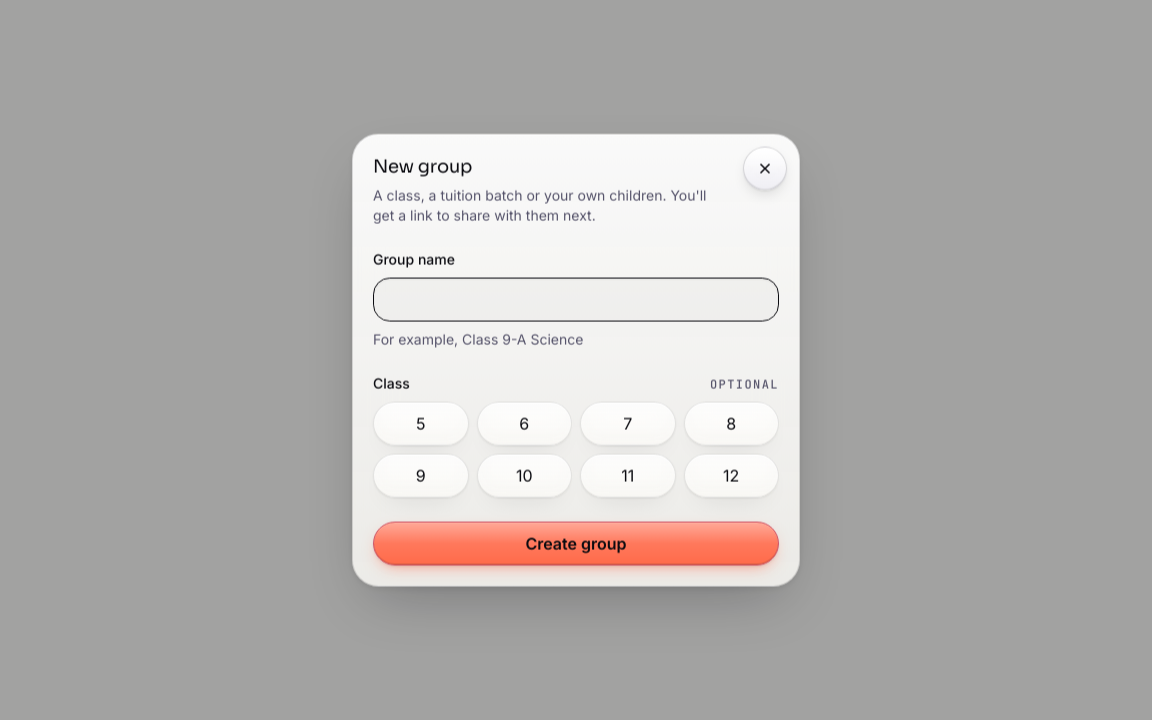
Test case: creating a group › a failed save keeps the window open and says so
Type "Tuition" into the field labelled "Group name".
click(576, 299); type("Tuition")  # box [373,277,779,321]
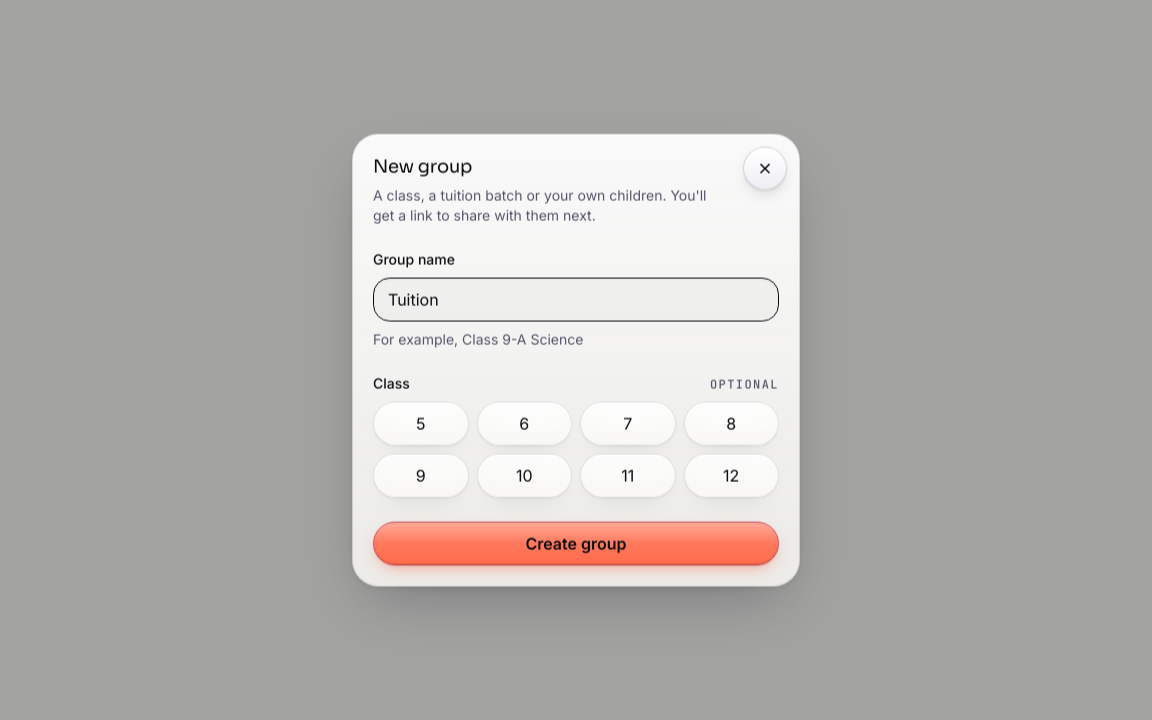
Click the button "Create group".
click(576, 543)  # box [373,521,779,565]
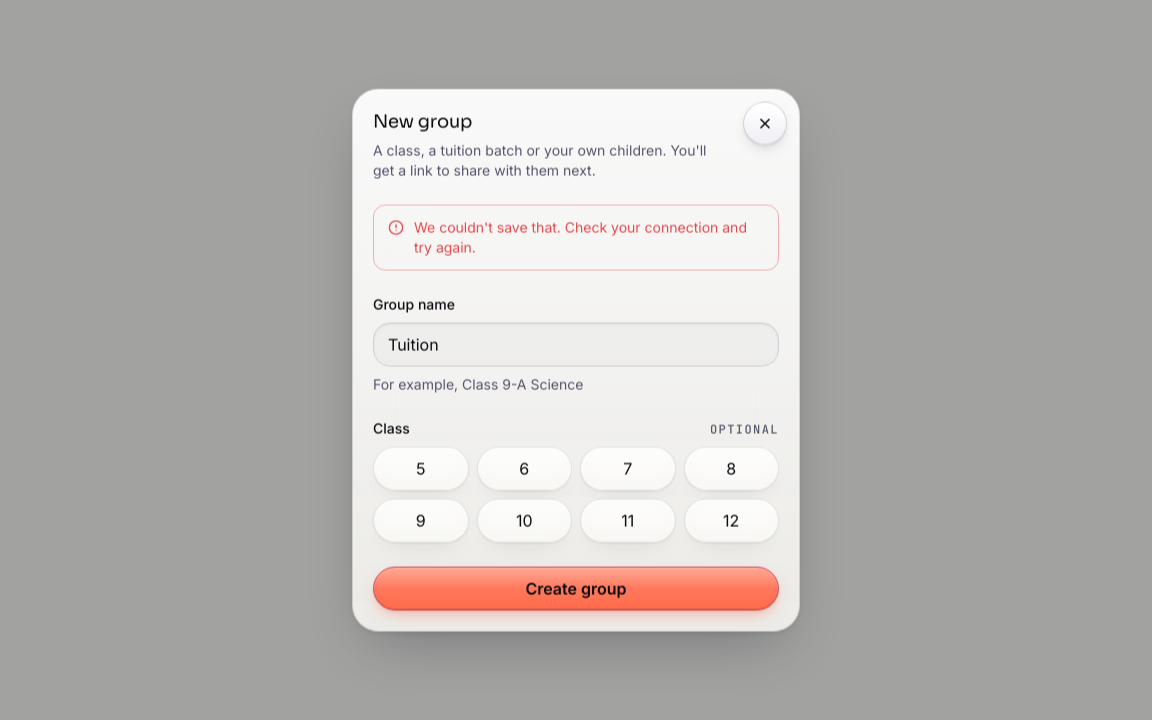
Check: the text "We couldn't save that. Check your connection and try again." is shown, box [414,217,764,257]
